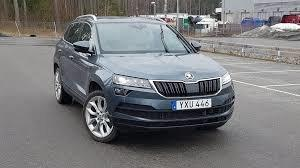license-plates: (176, 99, 212, 110)
